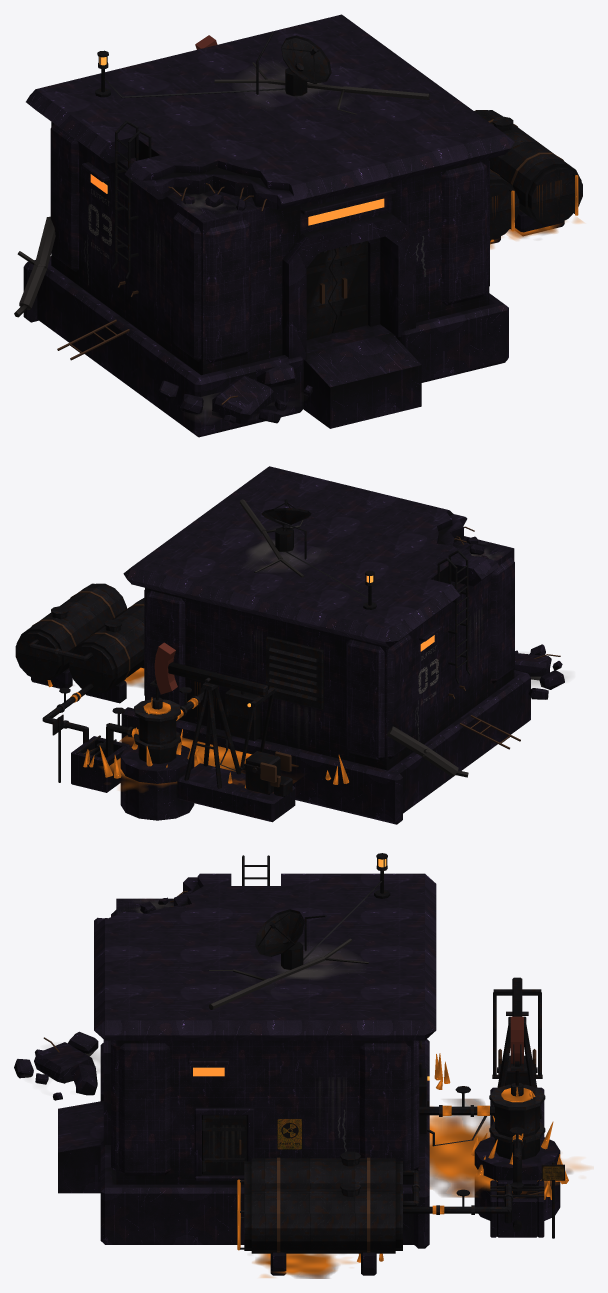
The model's file is outpost03_bunker.glb.
The picture shows the model from 3 angles, top to bottom: view 1: azimuth 30°, elevation 25°; view 2: azimuth 150°, elevation 25°; view 3: azimuth 270°, elevation 25°; orthographic projection. The views are drawn at different scales.
Parts seen in each view (by area): view 1: bunker_shell, door_right, bunker_decals, door_left, bunker_liquid; view 2: bunker_shell, bunker_liquid, bunker_decals, pump_beam, pump_crank, pump_pitman; view 3: bunker_shell, bunker_liquid, bunker_decals, pump_beam, pump_pitman.
Boxes of the visible parts, x1,y1,x2,y2 form: bunker_shell: (14, 14, 582, 437); door_right: (327, 241, 367, 333); bunker_decals: (84, 66, 561, 417); door_left: (306, 249, 336, 339); bunker_liquid: (490, 175, 583, 249); bunker_shell: (15, 466, 564, 824); bunker_liquid: (47, 667, 349, 789); bunker_decals: (70, 540, 566, 793); pump_beam: (154, 642, 275, 706); pump_crank: (239, 751, 291, 782); pump_pitman: (240, 693, 273, 768); bunker_shell: (14, 853, 564, 1275); bunker_liquid: (237, 1053, 590, 1277); bunker_decals: (85, 899, 571, 1278); pump_beam: (493, 977, 541, 1071); pump_pitman: (493, 992, 541, 1077).
Size of what is drawn, in the model's own units: 13.21 by 6.76 by 12.87.
29 materials, 21 textured.
